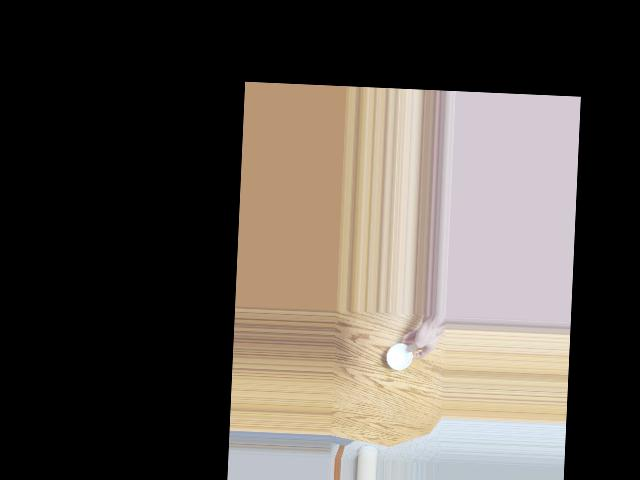cotage: (384, 341, 413, 370)
